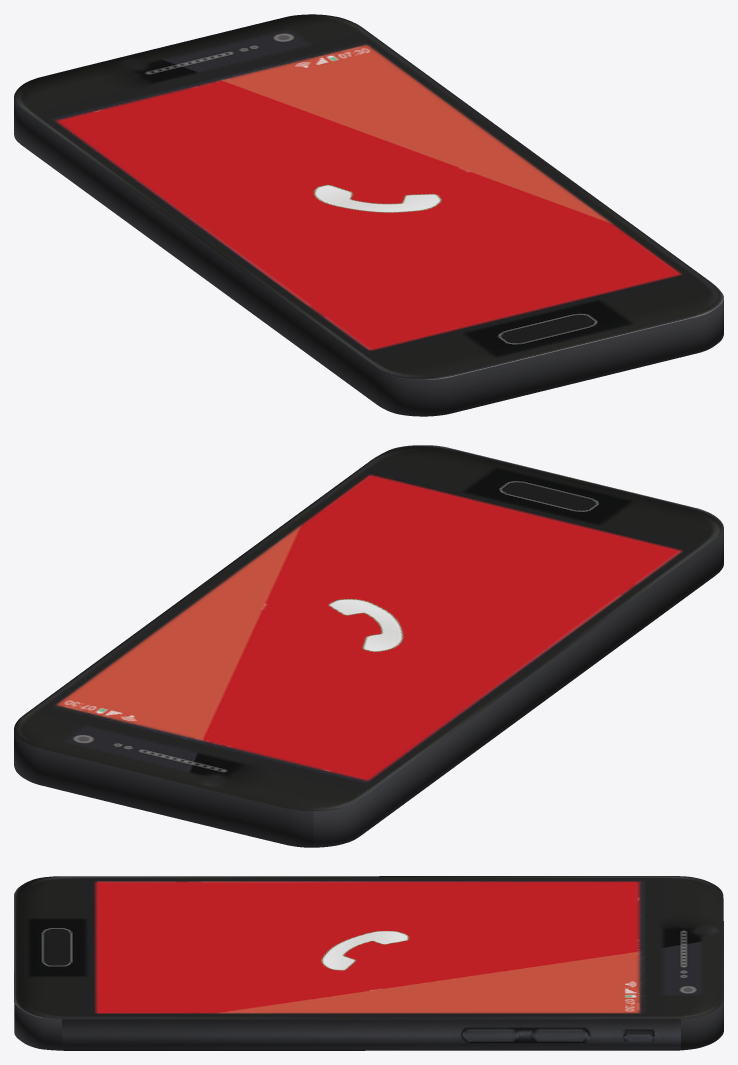
Rendered from Phone 2.FBX.
3 renders of one model, top to bottom at view 1: azimuth 30°, elevation 25°; view 2: azimuth 150°, elevation 25°; view 3: azimuth 270°, elevation 25°, orthographic. The views are drawn at different scales.
Visible parts, largest first — view 1: Phone 2; view 2: Phone 2; view 3: Phone 2.
Part boxes in pixels (bbox=[...]): Phone 2: bbox=[14, 14, 723, 416]; Phone 2: bbox=[14, 445, 723, 847]; Phone 2: bbox=[14, 876, 723, 1050].
Bounding box in the file's own units: 7.25 × 0.7445 × 15.17.
1 material, 1 textured.
